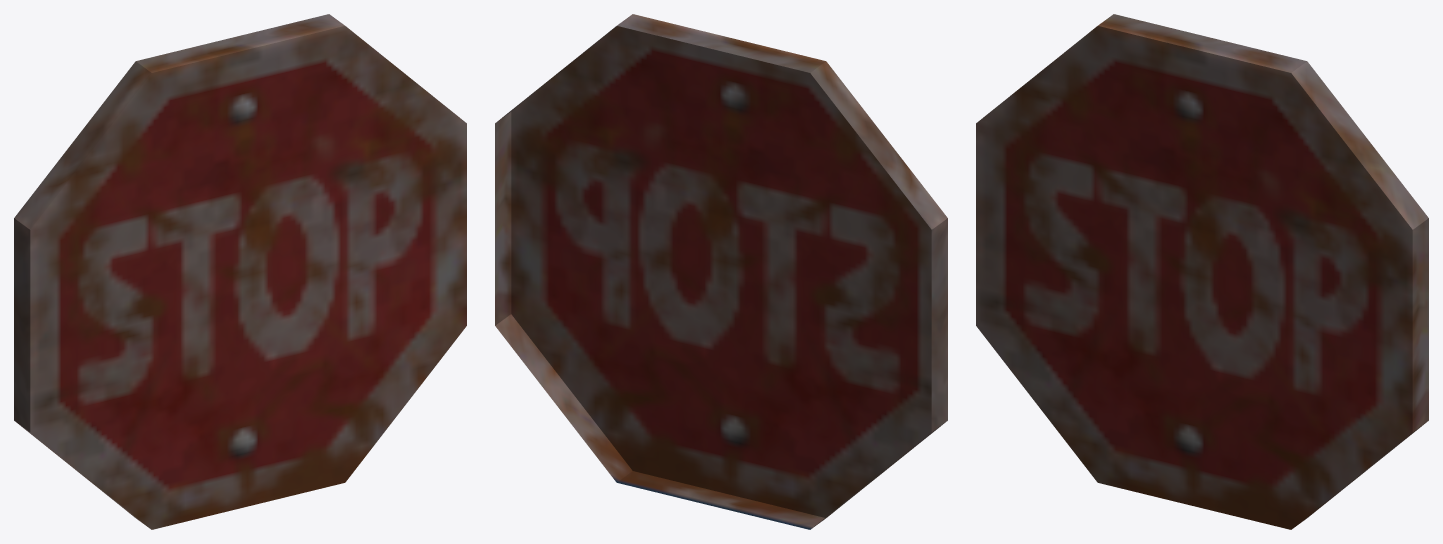
The model's file is Stage-gongchang-paizi1.FBX.
The picture shows the model from 3 angles, left to right: view 1: azimuth 30°, elevation 25°; view 2: azimuth 150°, elevation 25°; view 3: azimuth 330°, elevation 25°; orthographic projection.
Parts seen in each view (by area): view 1: Object33; view 2: Object33; view 3: Object33.
Boxes of the visible parts, x1,y1,x2,y2 form: Object33: (14,14,466,529); Object33: (495,14,947,529); Object33: (976,14,1428,529).
Bounding box in the file's own units: 1.08 × 0.0692 × 1.08.
